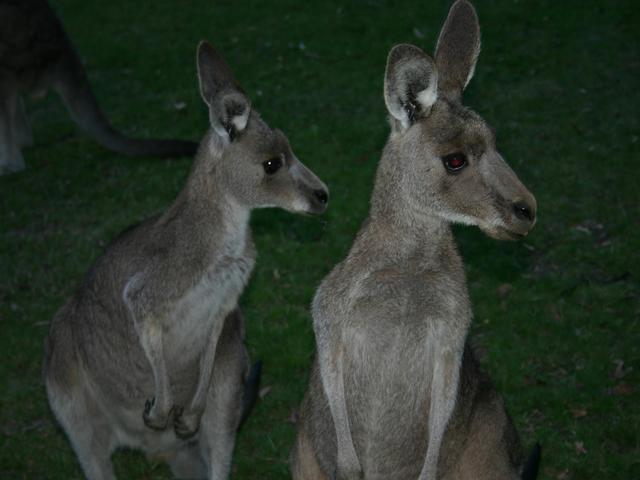kangaroo: (275, 10, 571, 480), (22, 62, 349, 474)
